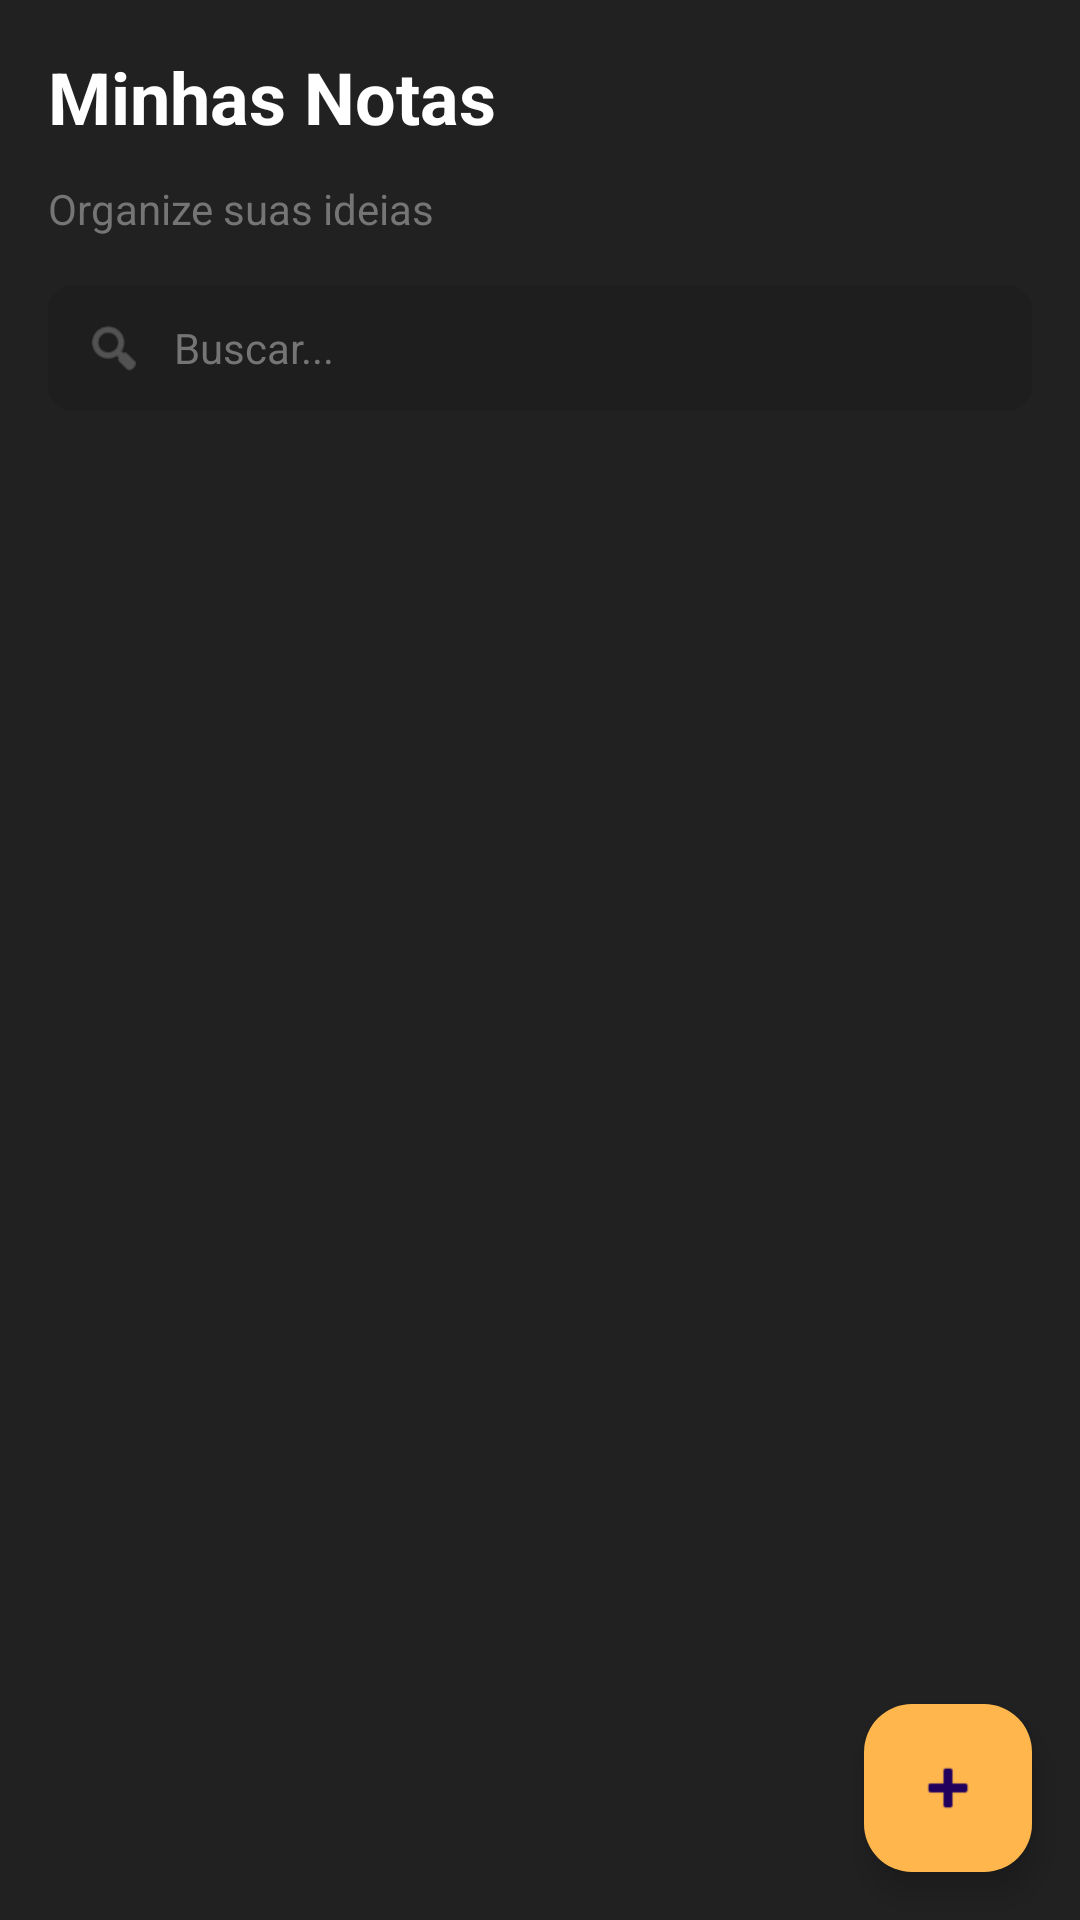

Icons on this 1080 × 1920 Android screen, each with its box as (x1, y1, x2, y2):
Adicionar nota: (864, 1704, 1032, 1872)
